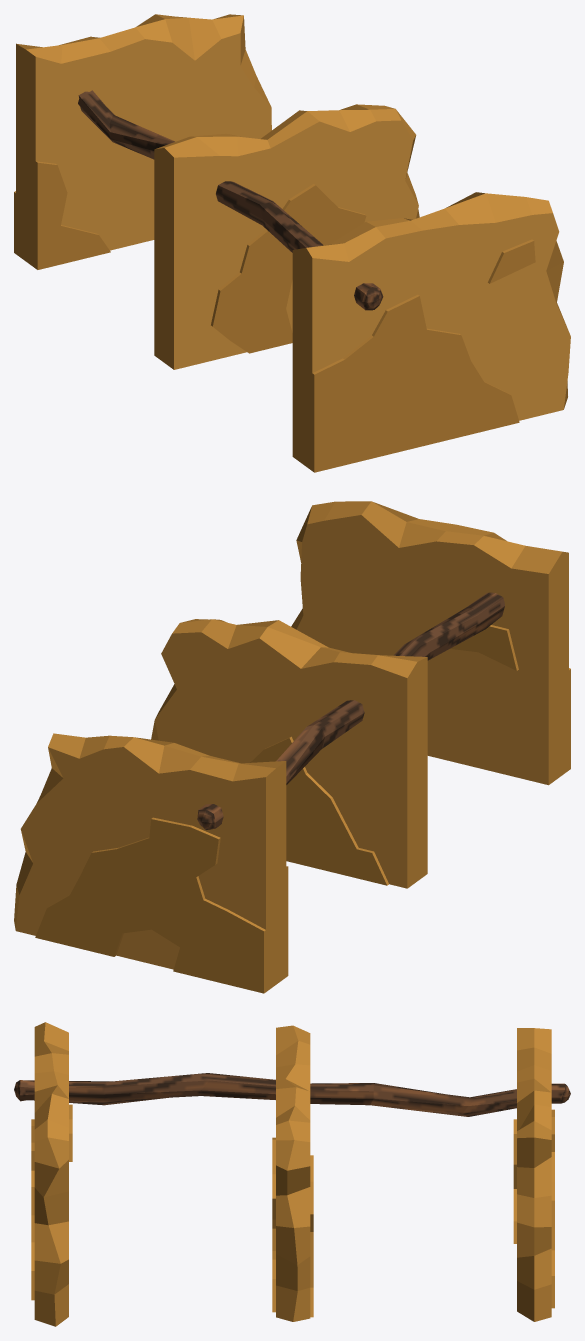
The model's file is Walls1.fbx.
The picture shows the model from 3 angles, top to bottom: view 1: azimuth 30°, elevation 25°; view 2: azimuth 150°, elevation 25°; view 3: azimuth 270°, elevation 25°; orthographic projection. The views are drawn at different scales.
Visible parts, largest first — view 1: Plane.004; view 2: Plane.004; view 3: Plane.004.
Part boxes in pixels (box(x1,y1,x2,y2)): Plane.004: box(14, 14, 570, 472); Plane.004: box(14, 501, 570, 993); Plane.004: box(14, 1022, 570, 1326).
Size of the model in its own units: 156 by 126 by 323.
